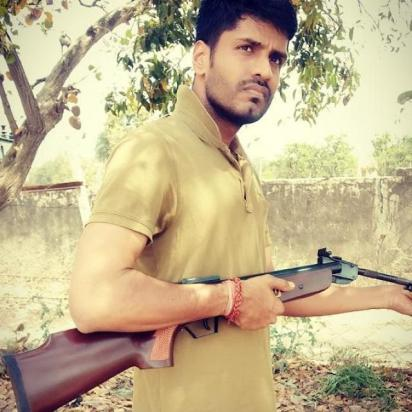Gun: (0, 245, 411, 411)
